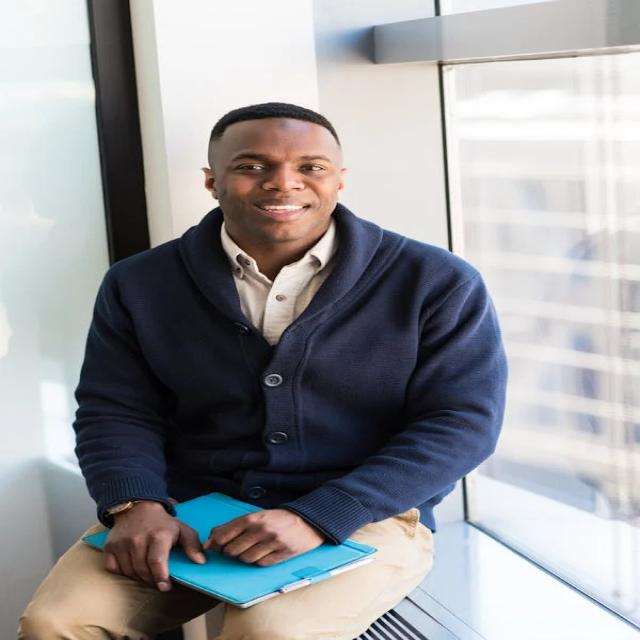Real human 2: (52, 84, 520, 640)
